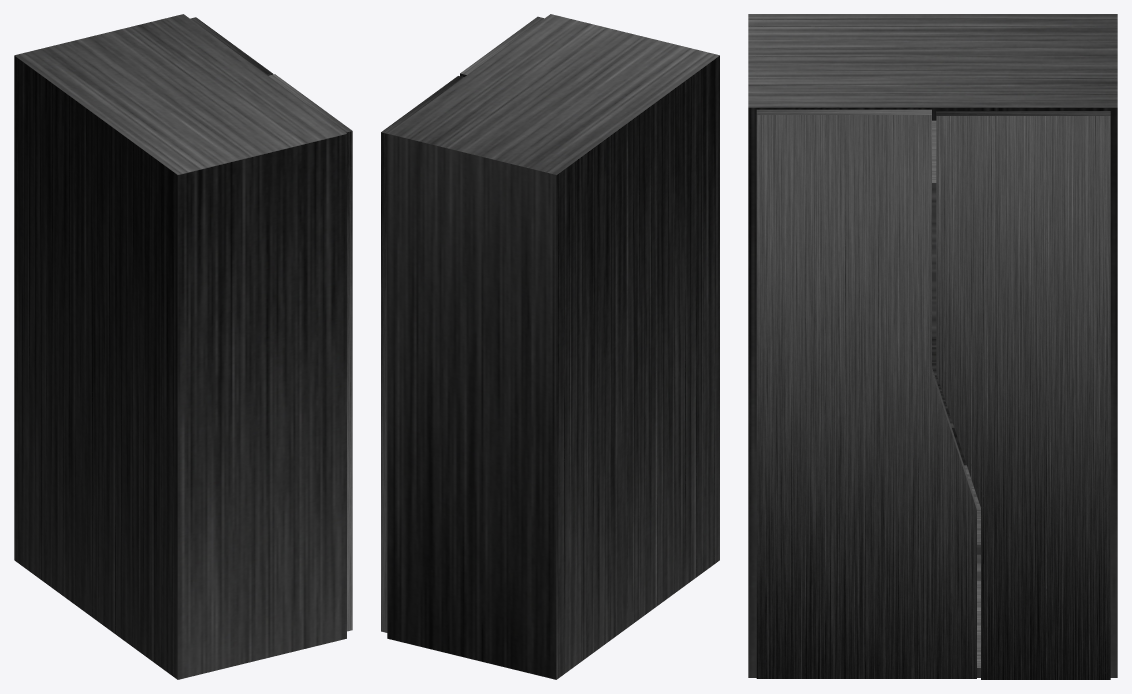
File: ClosetNEW.fbx
The picture shows the model from 3 angles, left to right: view 1: azimuth 30°, elevation 25°; view 2: azimuth 150°, elevation 25°; view 3: azimuth 270°, elevation 25°; orthographic projection. The views are drawn at different scales.
Parts seen in each view (by area): view 1: ClosetBase, LeftDoor, RightDoor; view 2: ClosetBase, RightDoor, LeftDoor; view 3: LeftDoor, RightDoor, ClosetBase.
Boxes of the visible parts, box(x1,y1,x2,y2) form: ClosetBase: box(14, 14, 346, 679); LeftDoor: box(268, 74, 352, 631); RightDoor: box(190, 17, 273, 75); ClosetBase: box(387, 14, 719, 679); RightDoor: box(381, 76, 463, 632); LeftDoor: box(460, 16, 544, 76); LeftDoor: box(756, 109, 976, 678); RightDoor: box(936, 111, 1110, 679); ClosetBase: box(748, 14, 1117, 677).
Bounding box in the file's own units: 187 × 506 × 297.
